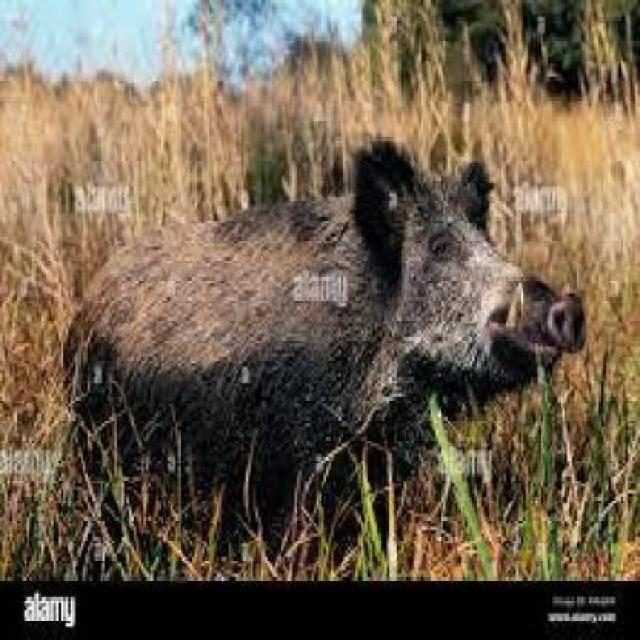wildboar: (52, 135, 591, 554)
